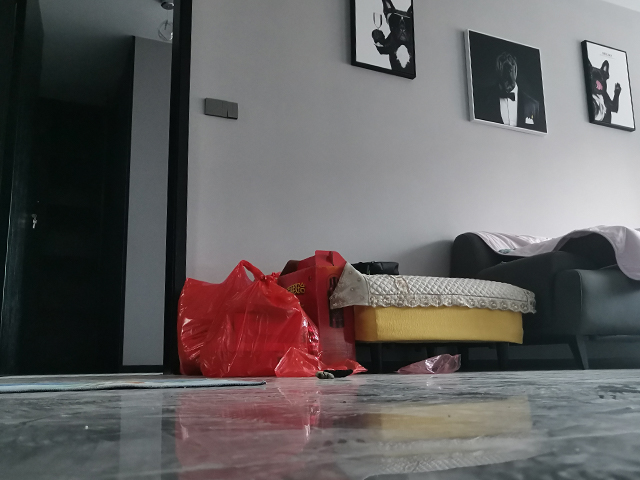carpet: (1, 377, 266, 393)
sofa: (452, 227, 640, 371), (332, 267, 532, 375)
